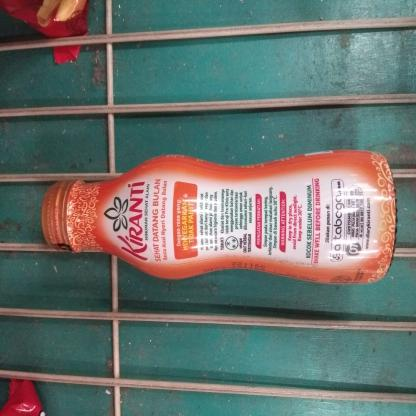bottle: (38, 147, 402, 292)
